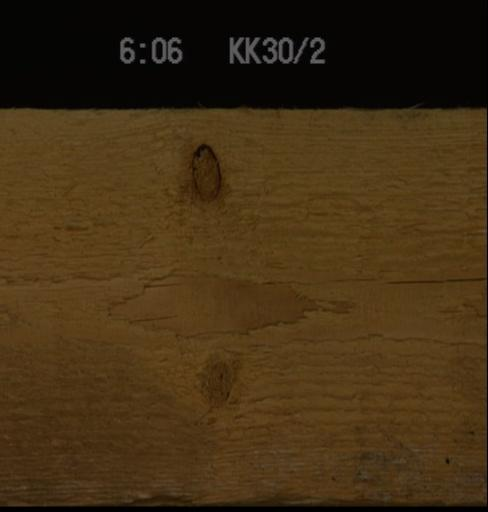dry_knot: (187, 142, 222, 204)
sound_knot: (198, 355, 239, 409)
split: (387, 274, 485, 285), (128, 312, 176, 321), (141, 278, 184, 288)
wave: (120, 488, 315, 504)
